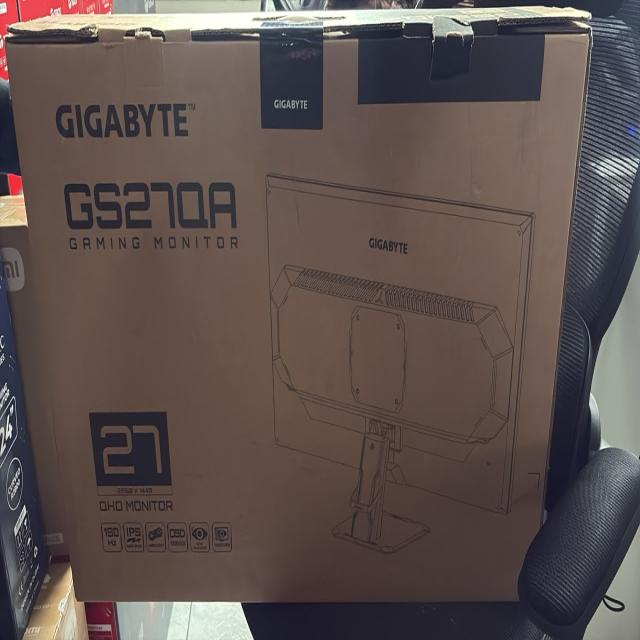caja-monitor: (7, 12, 588, 602)
